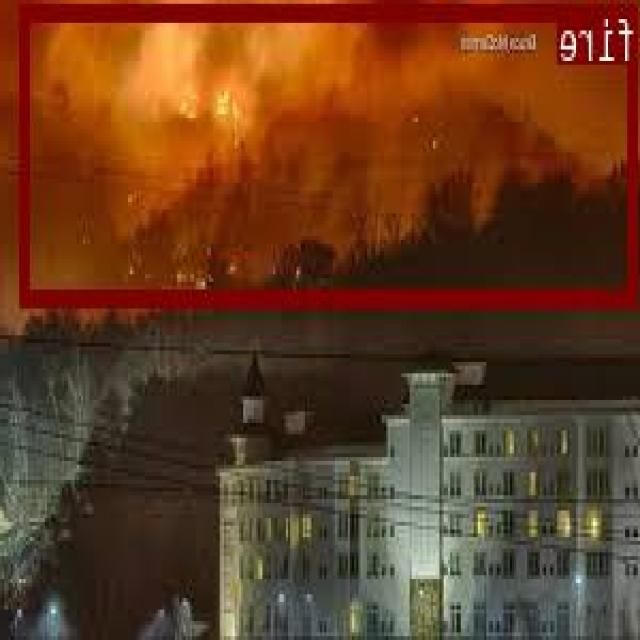fire: (21, 2, 640, 301)
